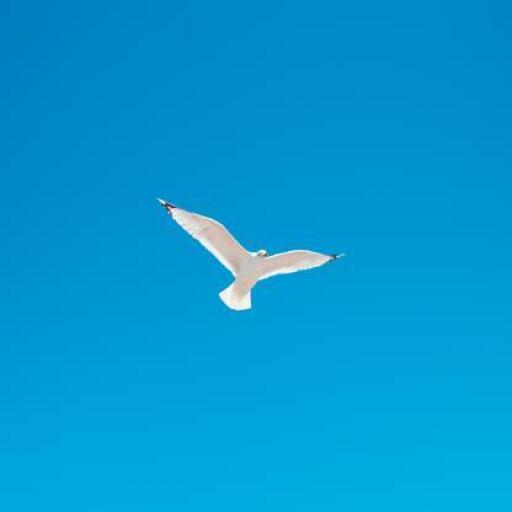bird: (157, 198, 344, 310)
